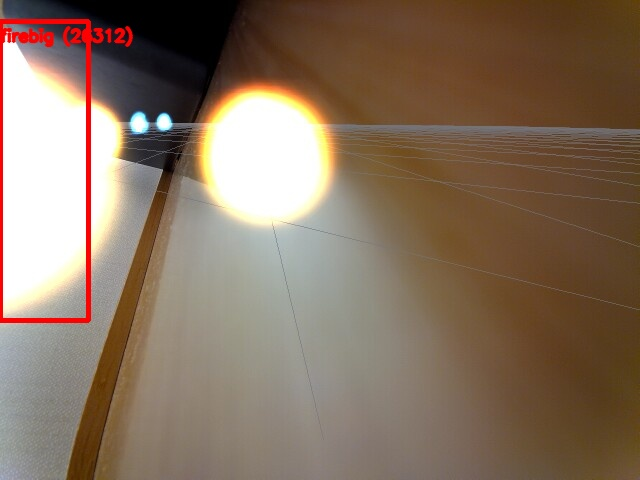firebig: (0, 21, 88, 320)
